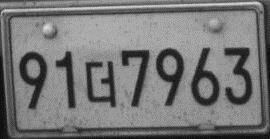1: (51, 49, 82, 110)
3: (222, 45, 253, 106)
6: (190, 46, 221, 106)
7: (120, 48, 151, 108)
9: (17, 50, 47, 109), (155, 47, 185, 106)
더: (84, 58, 117, 108)
